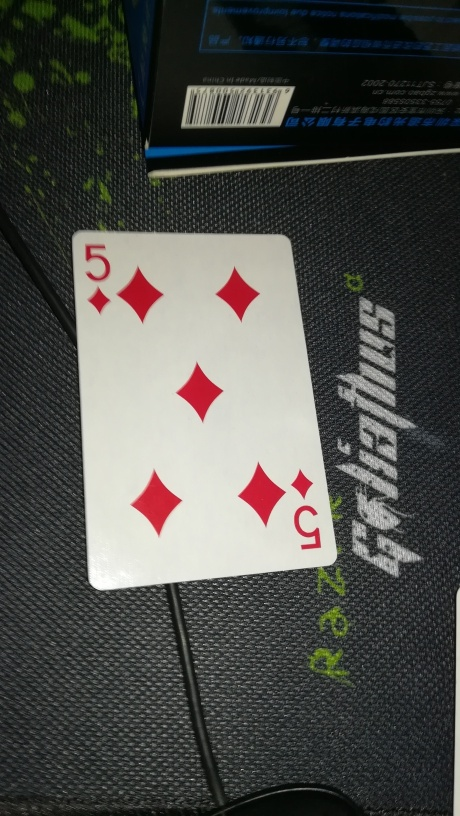fk 5: (70, 227, 346, 592)
